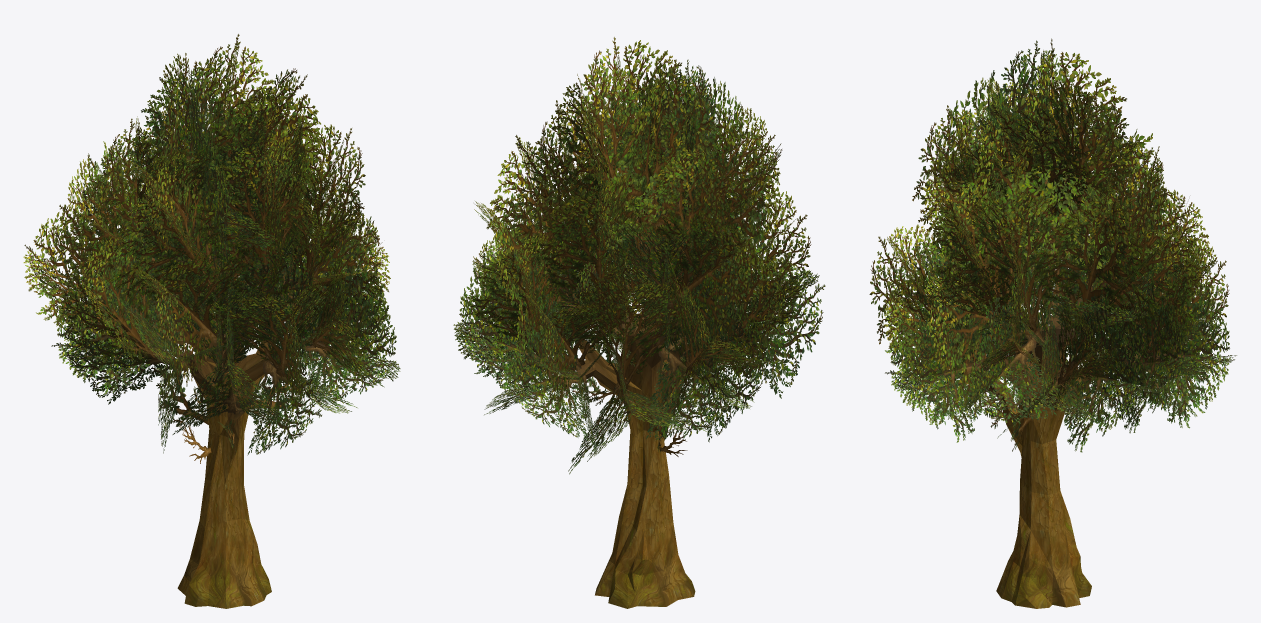
File: ElwynTree04.obj
The picture shows the model from 3 angles, left to right: view 1: azimuth 30°, elevation 25°; view 2: azimuth 150°, elevation 25°; view 3: azimuth 270°, elevation 25°; orthographic projection.
Visible parts, largest first — view 1: Body.001_Body_Mesh.001, Body_Body_Mesh; view 2: Body.001_Body_Mesh.001, Body_Body_Mesh; view 3: Body.001_Body_Mesh.001, Body_Body_Mesh.
Part boxes in pixels (x1,y1,x2,y2): Body.001_Body_Mesh.001: (23, 34, 400, 463); Body_Body_Mesh: (162, 284, 326, 608); Body.001_Body_Mesh.001: (453, 37, 825, 474); Body_Body_Mesh: (519, 283, 738, 608); Body.001_Body_Mesh.001: (869, 38, 1236, 452); Body_Body_Mesh: (969, 274, 1173, 608).
Bounding box in the file's own units: 52.64 × 85.14 × 52.64.
2 materials, 2 textured.
